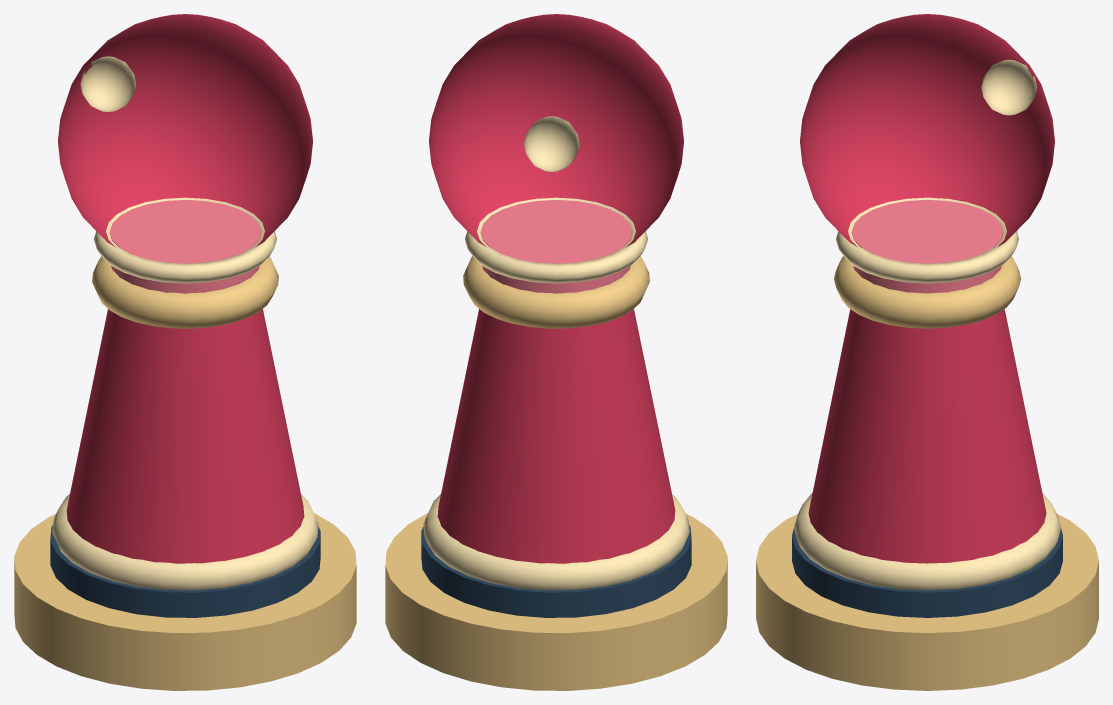
Rendered from token_ruby.glb.
The picture shows the model from 3 angles, left to right: view 1: azimuth 30°, elevation 25°; view 2: azimuth 150°, elevation 25°; view 3: azimuth 270°, elevation 25°; orthographic projection.
Parts seen in each view (by area): view 1: ruby, gold, gold_light, ruby_hi, navy; view 2: ruby, gold, gold_light, ruby_hi, navy; view 3: ruby, gold, gold_light, ruby_hi, navy.
Part boxes in pixels (x1,y1,x2,y2): ruby: (58, 14, 312, 563); gold: (14, 256, 356, 690); gold_light: (52, 56, 318, 590); ruby_hi: (109, 200, 261, 293); navy: (50, 525, 320, 617); ruby: (429, 14, 683, 563); gold: (385, 256, 727, 690); gold_light: (423, 116, 689, 590); ruby_hi: (480, 200, 632, 293); navy: (421, 525, 691, 617); ruby: (800, 14, 1054, 563); gold: (756, 256, 1098, 690); gold_light: (794, 59, 1060, 590); ruby_hi: (851, 199, 1003, 293); navy: (792, 528, 1062, 617).
Size of the model in its own units: 0.86 by 1.64 by 0.86.
